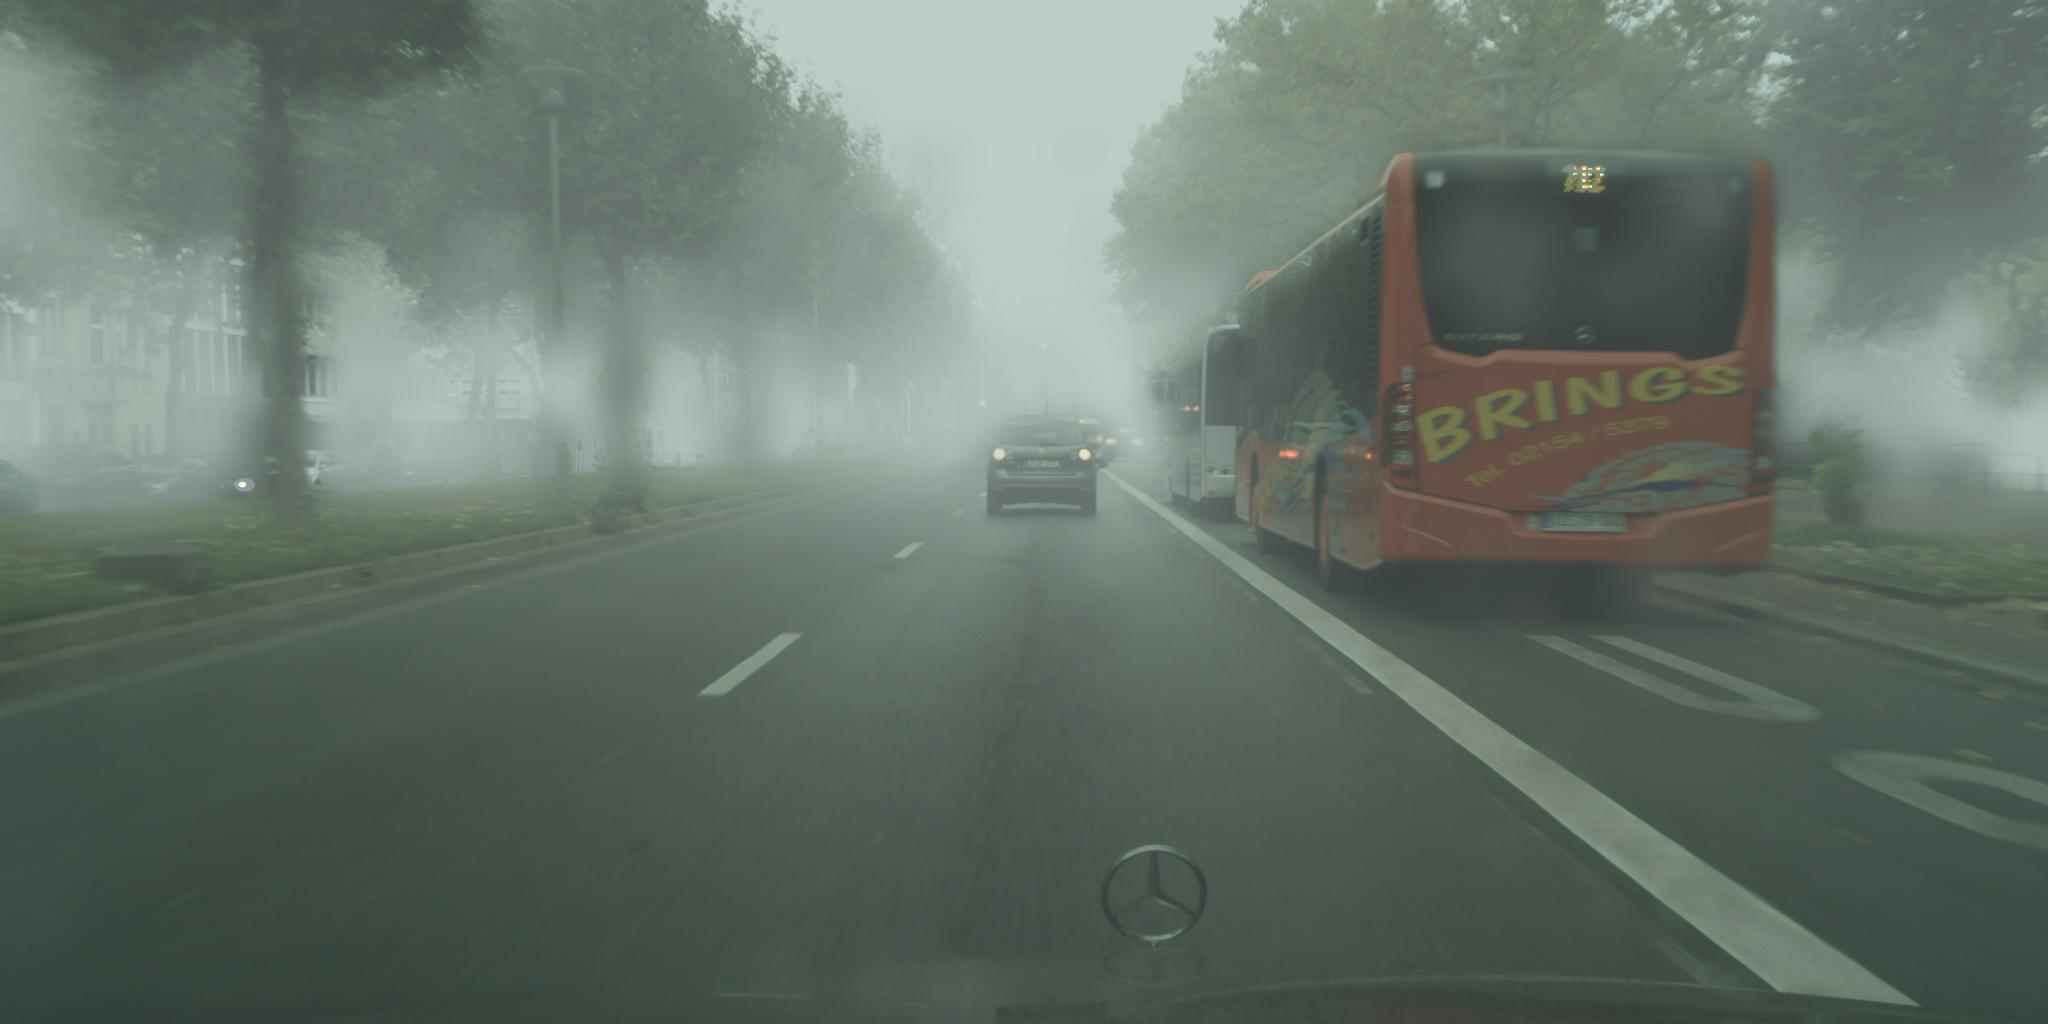bus: (1221, 146, 1779, 596), (1155, 324, 1253, 519)
car: (984, 415, 1102, 519), (10, 444, 146, 516), (125, 452, 225, 513), (204, 451, 287, 505), (327, 444, 404, 492), (1055, 418, 1110, 469), (293, 451, 350, 498), (1, 458, 40, 522), (394, 451, 451, 492), (431, 452, 478, 488), (1105, 428, 1148, 464), (953, 435, 1000, 458)
